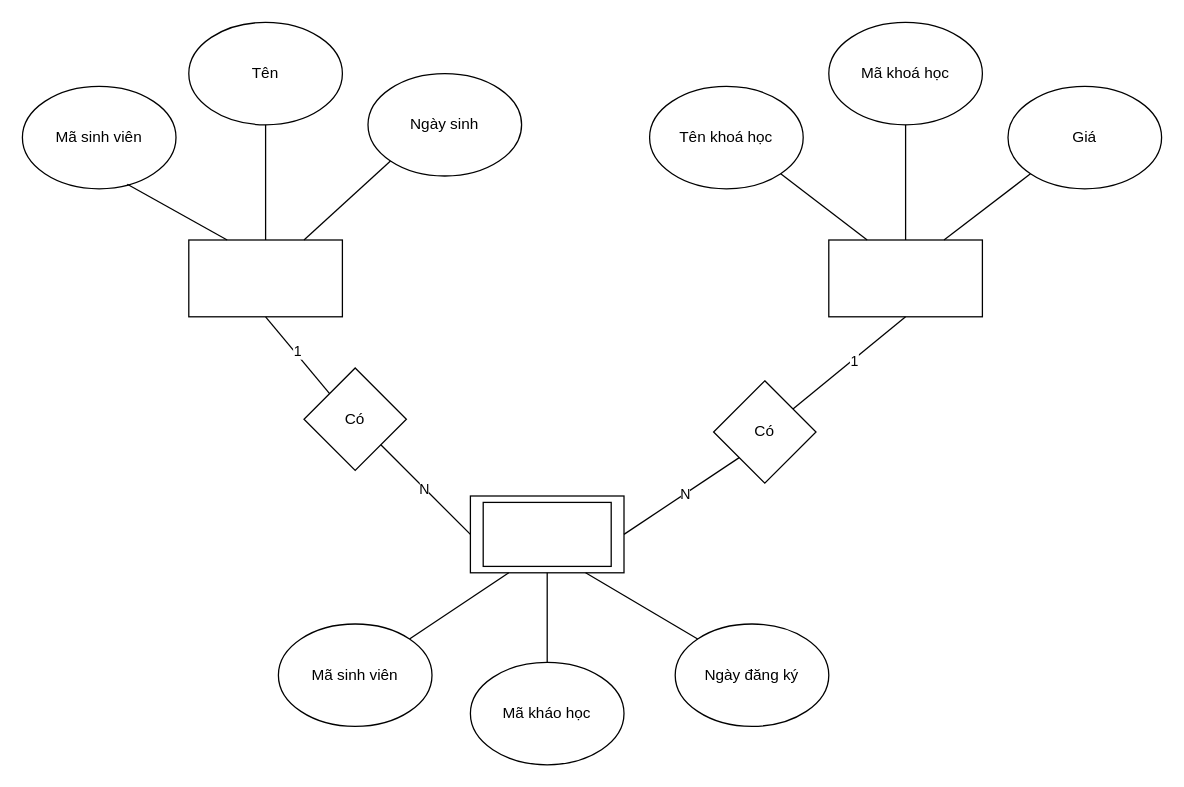
This 1184x787 diagram has some shape labels left out. Each missing label, with the box of its shape:
Course: (828, 239, 982, 317)
Enrollment: (482, 501, 611, 566)
Student: (188, 239, 342, 317)
